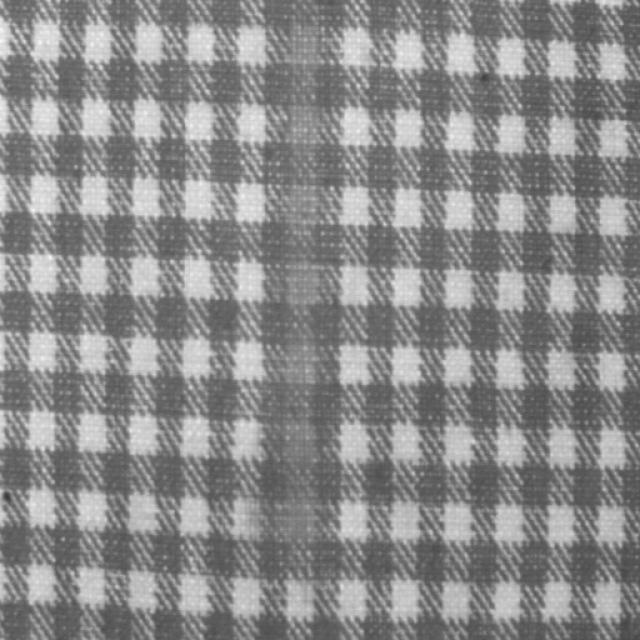Stain-Defect: (274, 18, 328, 547)
